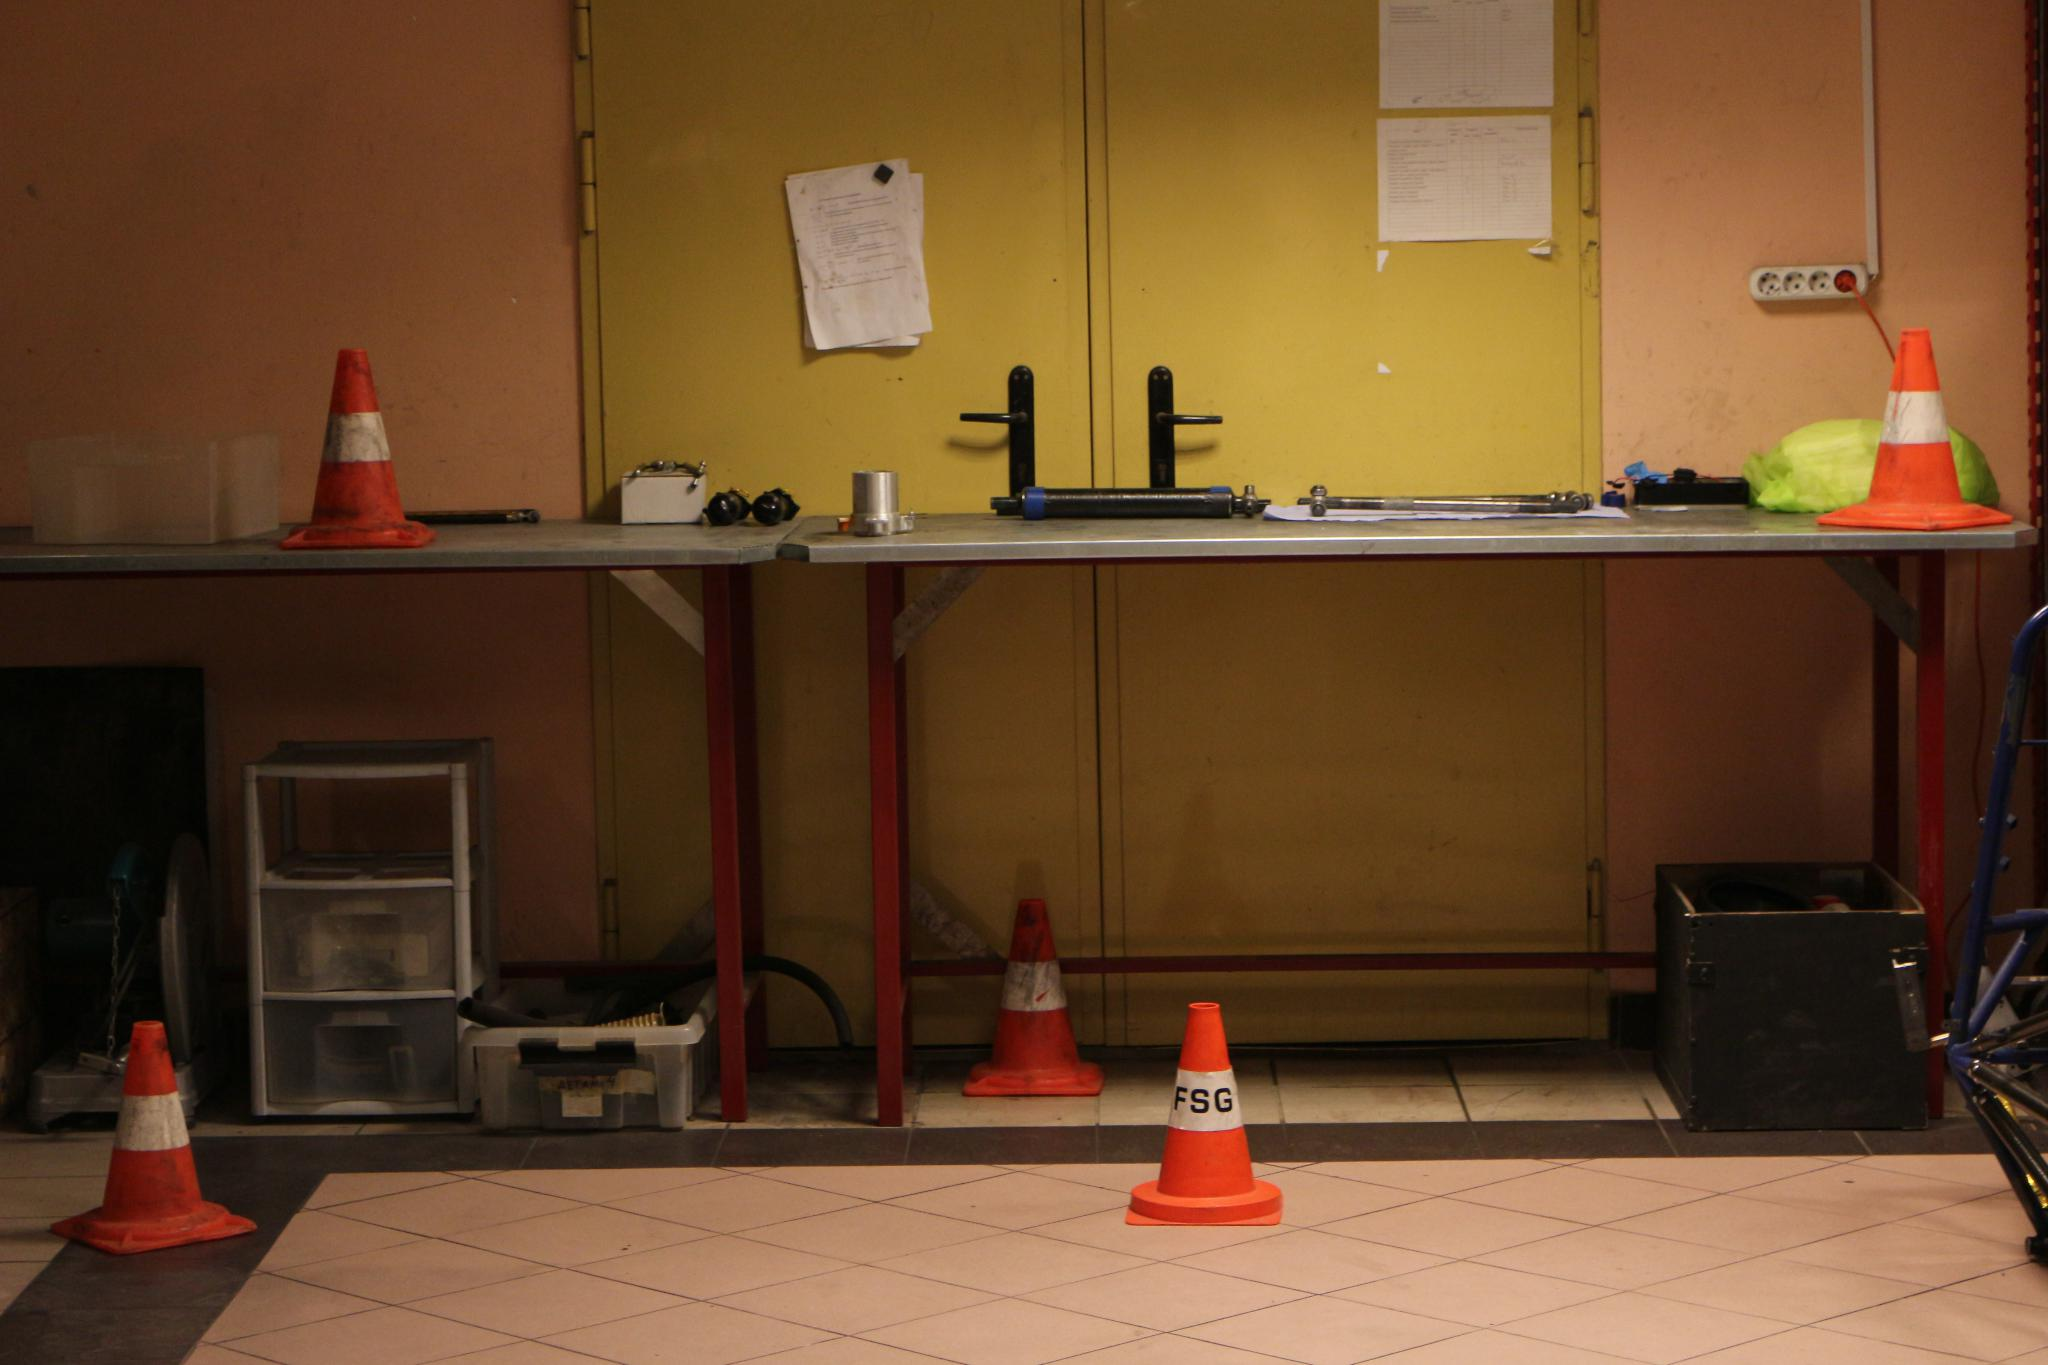Orange_Cone: (59, 1013, 244, 1258), (1113, 999, 1299, 1225), (1829, 317, 2011, 538), (273, 341, 437, 555), (959, 900, 1115, 1101)
